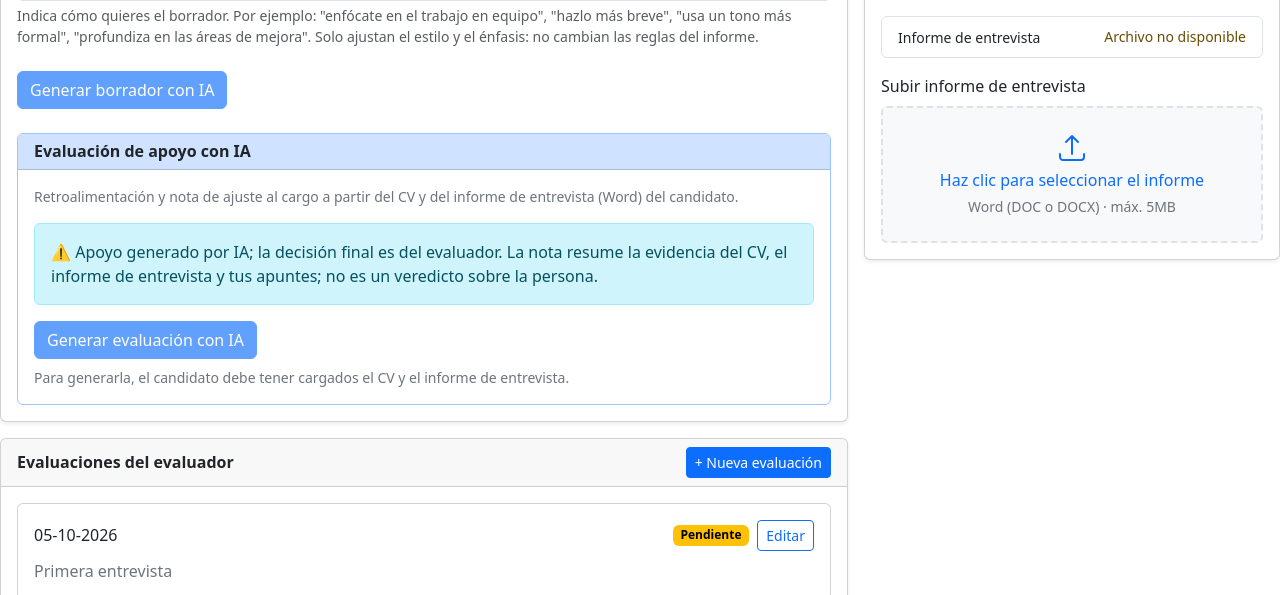
Test case: SolicitudDetalle › evaluaciones › si el servidor rechaza la evaluación, muestra el error y mantiene el formulario
(page scrolled)
Click the button "+ Nueva evaluación": (758, 462) [686,447,831,478]
(page scrolled)
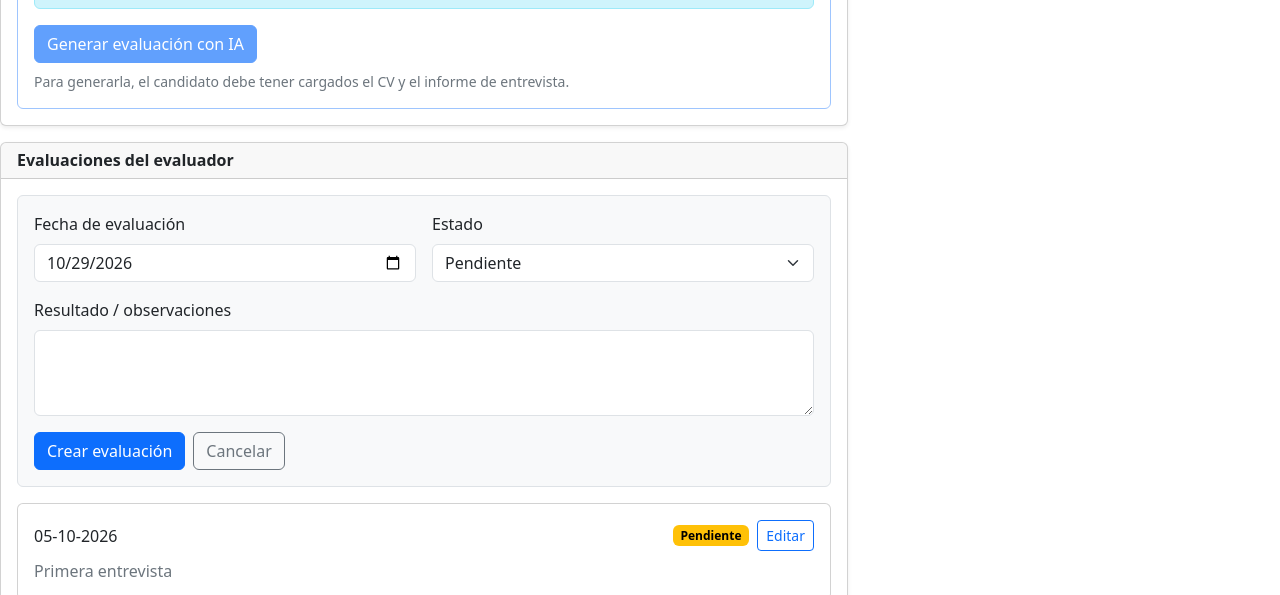
Click the button "Crear evaluación": (110, 451) [34,432,185,470]
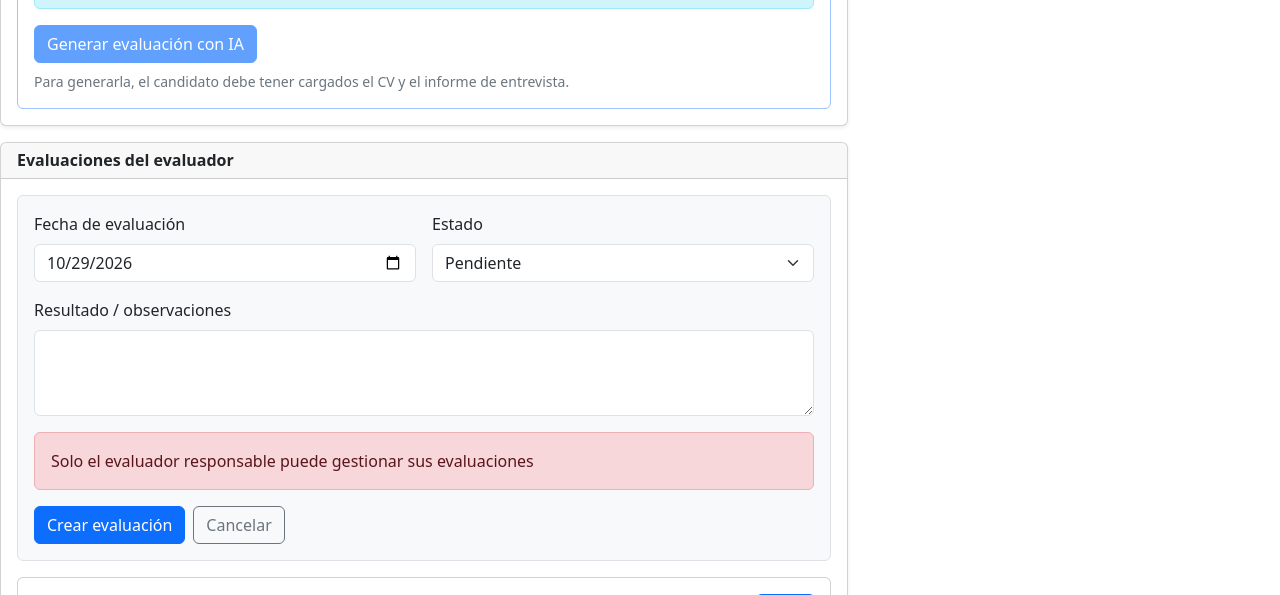
Expected: the button "Crear evaluación" is shown, [34,506,185,544]
Expected: the text "Solo el evaluador responsable puede gestionar sus evaluaciones" is shown, [34,432,814,490]
